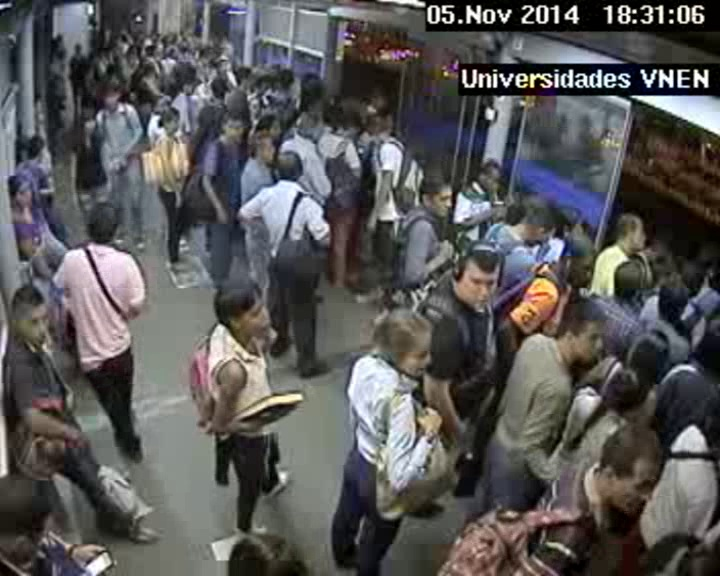person: (599, 427, 668, 514), (1, 473, 55, 564), (373, 308, 435, 380), (447, 238, 508, 310), (213, 275, 277, 341), (560, 301, 611, 366), (9, 286, 56, 347), (625, 329, 674, 379), (560, 241, 599, 291), (417, 173, 456, 218), (685, 324, 720, 374), (612, 212, 651, 254), (603, 365, 642, 407), (85, 201, 122, 243), (610, 258, 647, 300), (516, 207, 552, 250), (655, 284, 691, 323), (5, 174, 40, 212), (553, 206, 586, 243), (295, 73, 328, 105), (274, 149, 306, 182), (648, 256, 677, 290), (295, 111, 325, 143), (678, 261, 707, 294), (246, 132, 275, 164), (478, 159, 505, 192), (368, 108, 395, 137), (99, 82, 125, 111), (218, 111, 244, 140), (157, 107, 182, 136), (260, 112, 283, 139), (317, 103, 340, 129), (25, 136, 48, 160), (207, 79, 228, 101), (336, 101, 356, 124), (370, 88, 390, 109), (354, 98, 372, 117), (234, 66, 251, 86), (244, 97, 262, 115), (253, 73, 269, 92), (278, 68, 293, 86), (214, 57, 230, 73), (164, 79, 179, 95), (171, 64, 185, 81), (143, 61, 157, 77), (145, 43, 159, 58), (267, 65, 281, 79), (163, 45, 177, 58), (199, 48, 212, 62), (185, 67, 198, 80), (125, 48, 137, 61), (134, 29, 145, 43), (54, 49, 66, 61), (72, 43, 84, 54), (150, 30, 161, 41), (178, 43, 189, 54), (166, 33, 175, 43), (96, 48, 105, 58), (177, 31, 185, 41), (121, 24, 128, 33), (120, 36, 127, 43)
